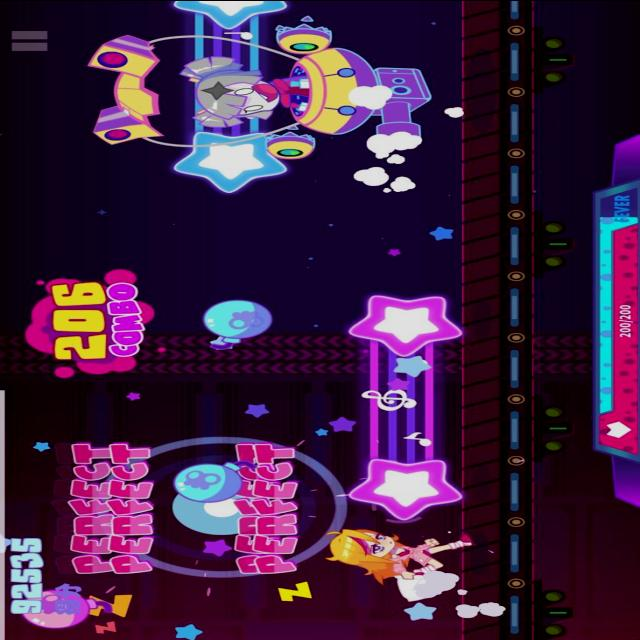hold: (342, 292, 462, 522), (169, 0, 301, 196)
qiangboss: (74, 18, 442, 152)
tang: (194, 294, 274, 354), (12, 587, 114, 630), (174, 456, 254, 502)
